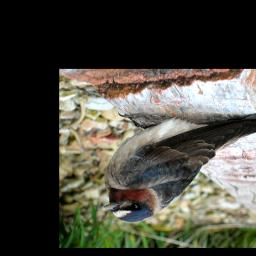Swallow: (98, 104, 256, 225)
